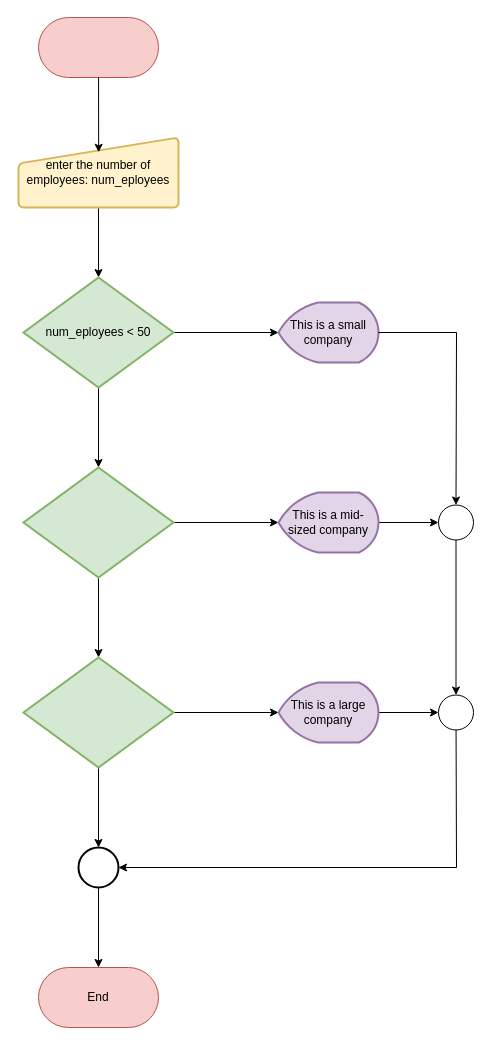
Some shapes in this 491 by 1045 pixel diagram are drawn without their labels. The centre of each missing label's shape, as x and y in pixels:
"num_eployees < 250" goes at pixel 98 522.
"num_eployees >= 250" goes at pixel 98 712.
"Start" goes at pixel 98 47.
